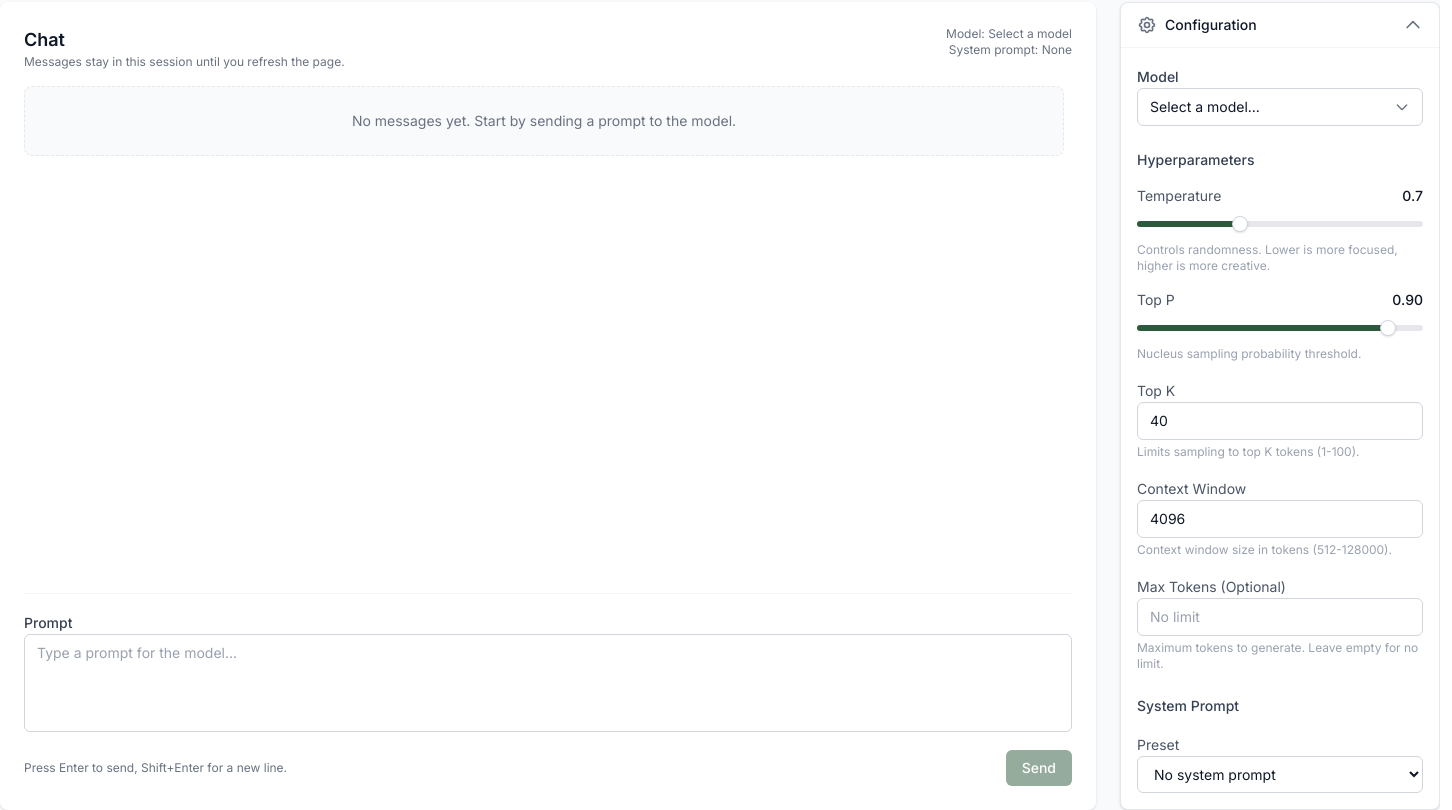
Test: SandboxPage › shows an error when sending without a selected model
(page scrolled)
Type "Hello there" into the text box with test id "sandbox-prompt-input" at (548, 683), box [24,634,1072,732]
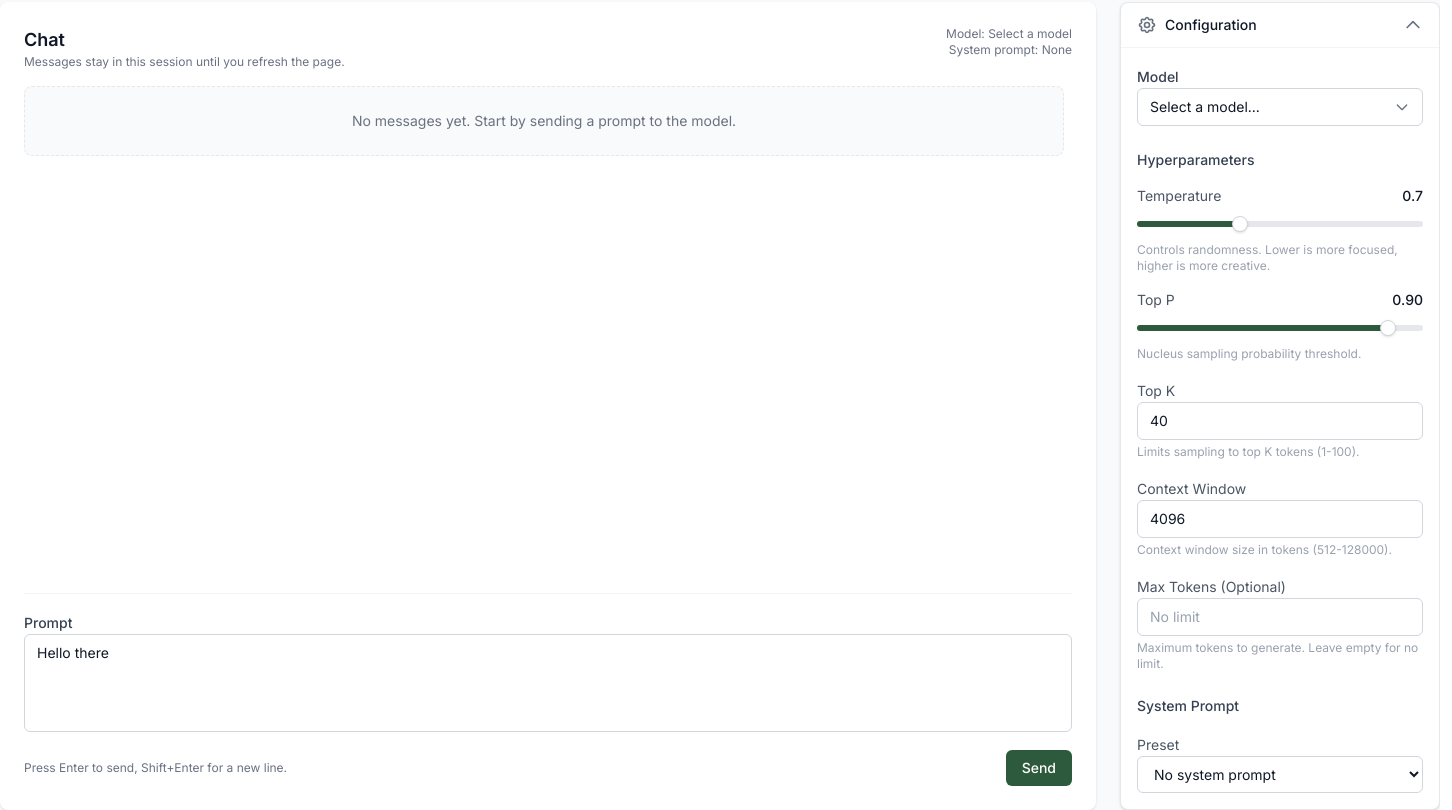
Click the button with test id "sandbox-send-button" at (1039, 768), box [1006,750,1072,786]
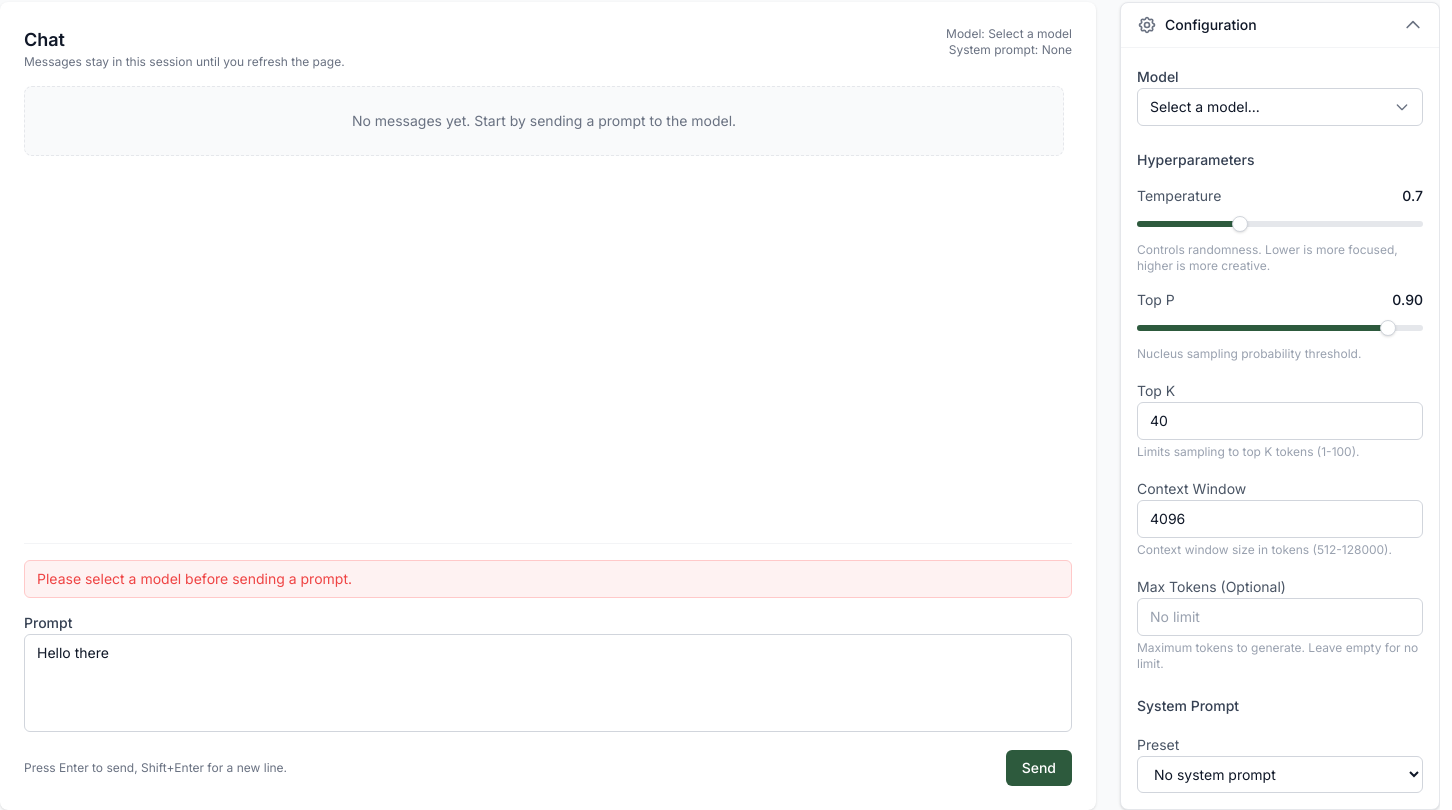
Expected: the text with test id "sandbox-error" reads "Please select a model before sending a prompt.", [37,570,352,587]
